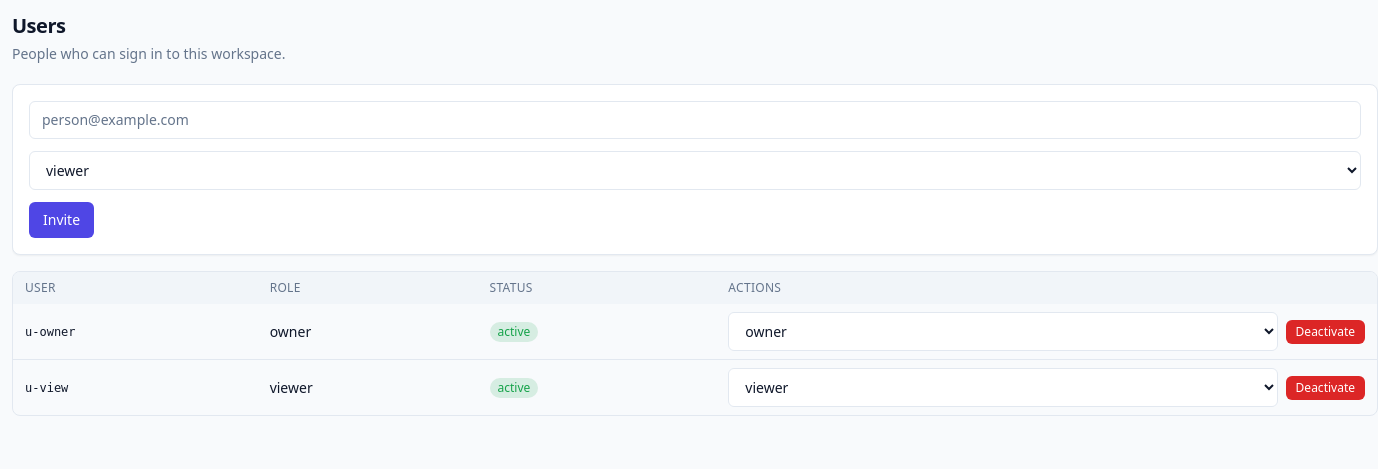
Test: Users view (US3) › creates a user and refreshes
expect the text "u-owner" is shown: met, box [13, 304, 258, 360]
Type "new@acme.test" into the field named "New user email" at (695, 120), box [29, 101, 1361, 139]
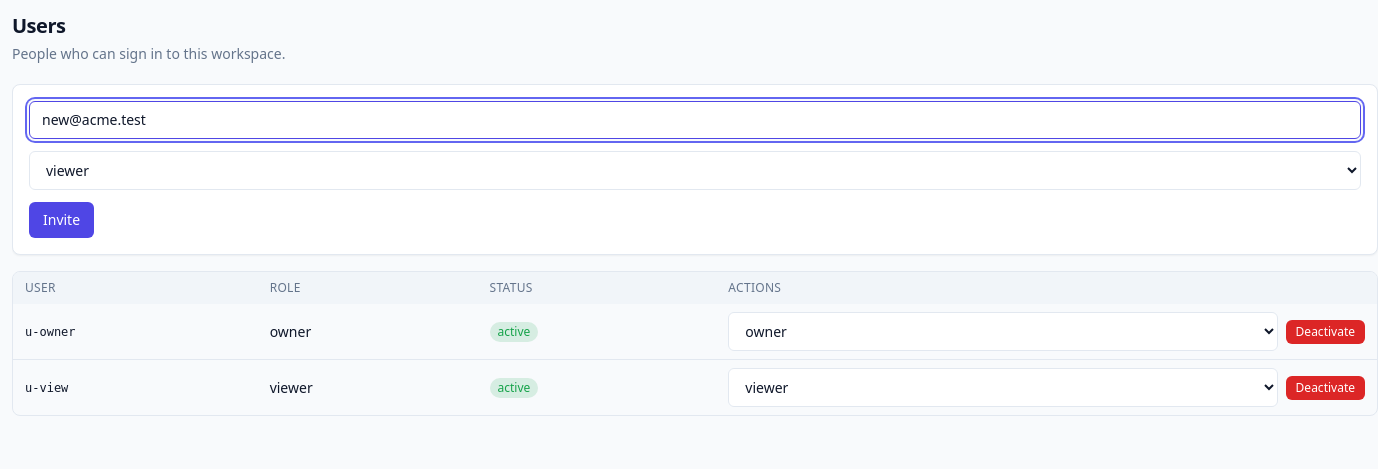
Click the button "Invite" at (62, 220), box [29, 202, 94, 238]
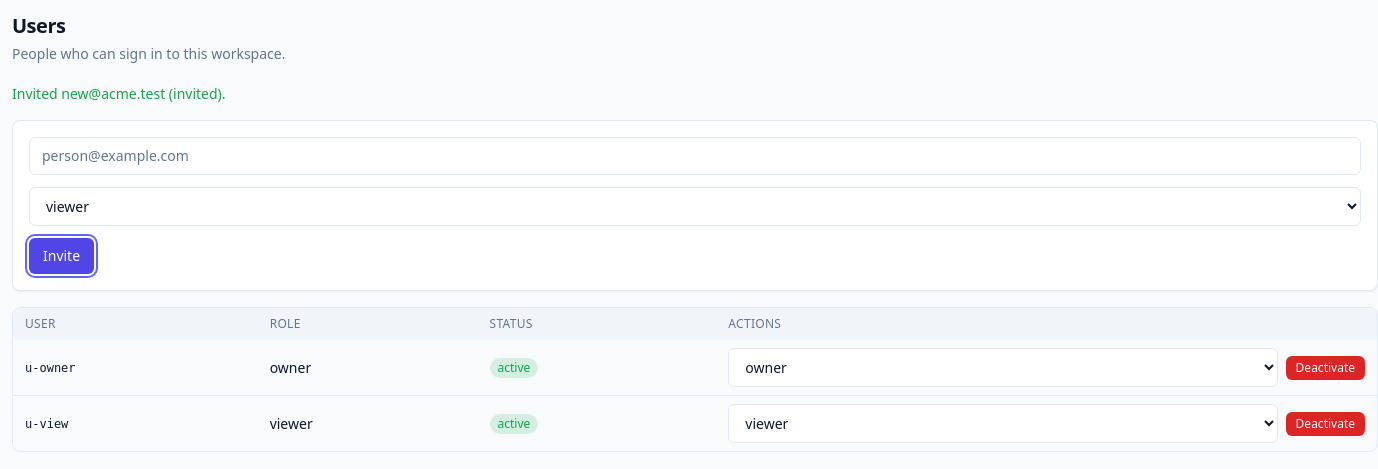
expect the message shows "Invited": met, box [12, 84, 226, 103]
